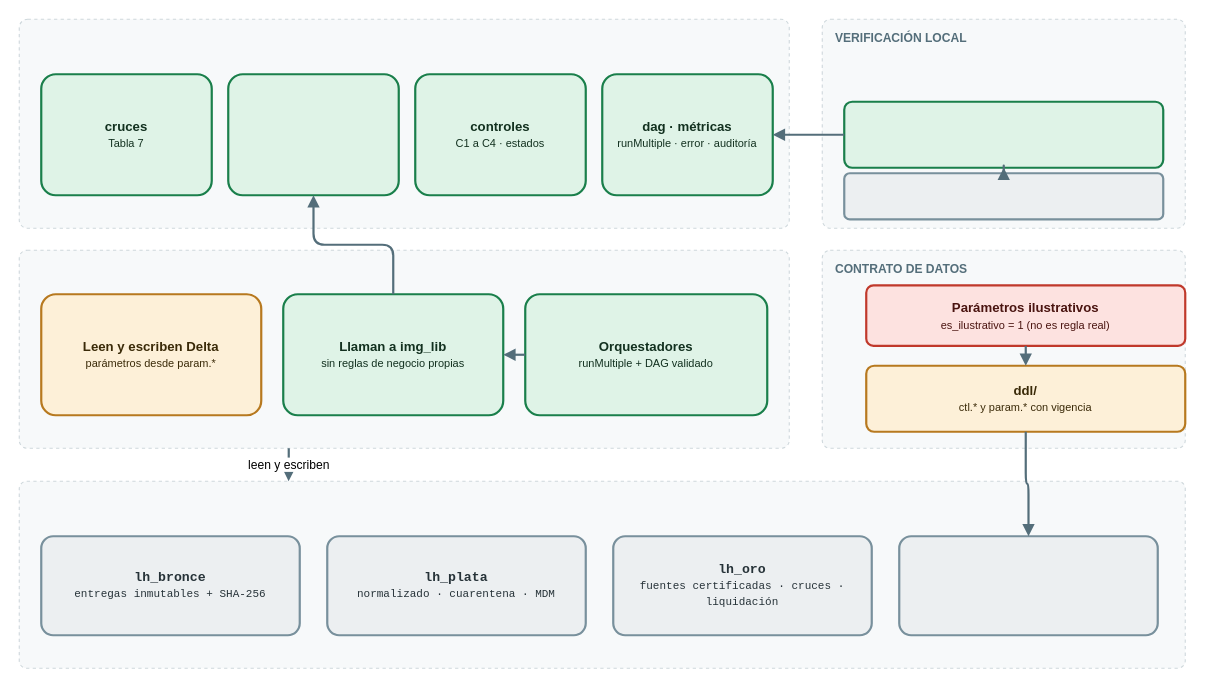
Image size: 1206x688. Some labels were removed from this diagram. Each missing label, with the box of its shape:
CUADERNOS DELGADOS · notebooks/ (23): (18, 249, 789, 448)
generador/ datos sintéticos + verdad conocida: (843, 172, 1164, 220)
lh_control bitácora · aprobaciones · param.*: (898, 535, 1158, 636)
liquidacion focalizar · titular · monto · listados: (227, 73, 399, 196)
LÓGICA PURA · img_lib/ (se prueba sin Spark): (18, 18, 789, 228)
MICROSOFT FABRIC (trial): (18, 480, 1185, 668)
tests/ (22 pruebas) cadena completa a 500 y 5.000 registros: (843, 100, 1164, 168)
